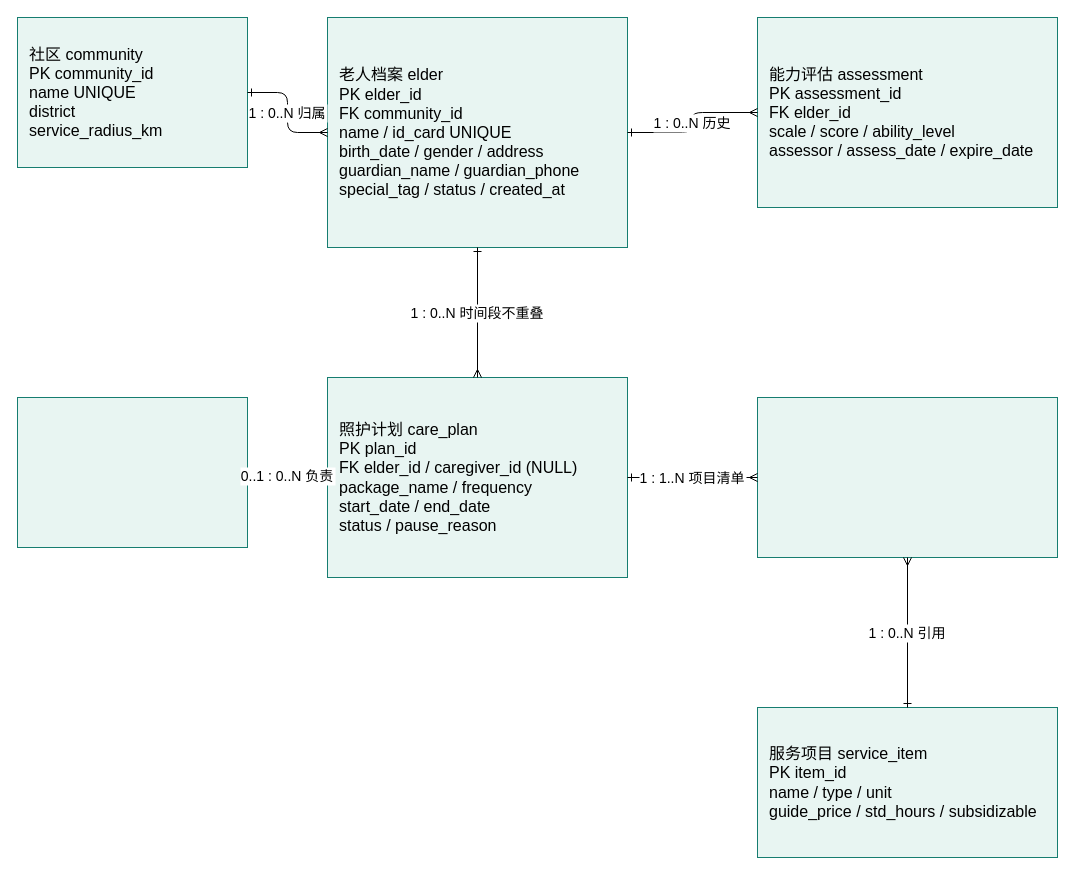
Some shapes in this 1075 by 875 pixel diagram are drawn without their labels. The centre of each missing label's shape, as x and y in pixels:
"计划项目 care_plan_item PK,FK plan_id PK,FK item_id 复合主键防止重复项目" belongs at [907,477].
"责任护工 caregiver PK caregiver_id name / agency / cert_type cert_expire / on_duty" belongs at [132,472].
